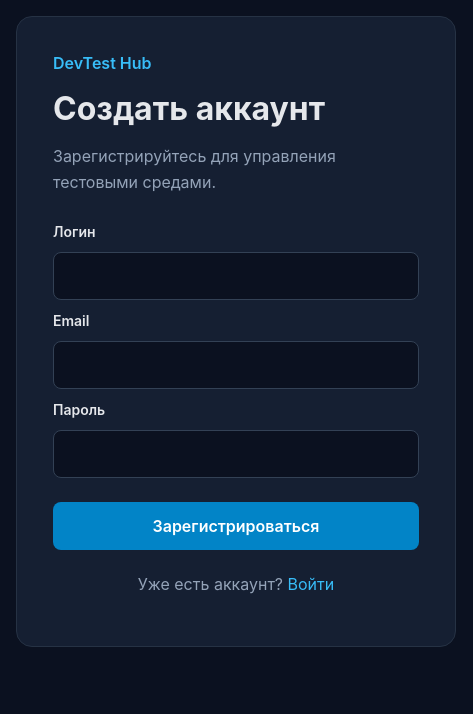
Test: RegisterPage › показывает ошибку при повторной регистрации
Type "newdeveloper" into the field labelled "Логин" at (236, 276), box [53,252,419,300]
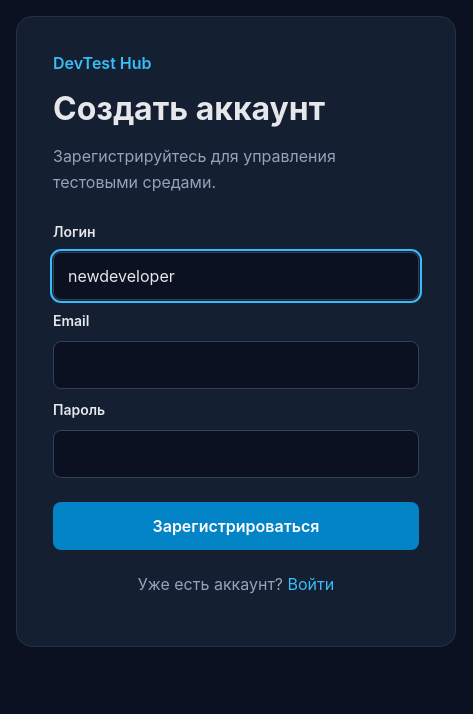
Type "newdeveloper@example.com" into the field labelled "Email" at (236, 365), box [53,341,419,389]
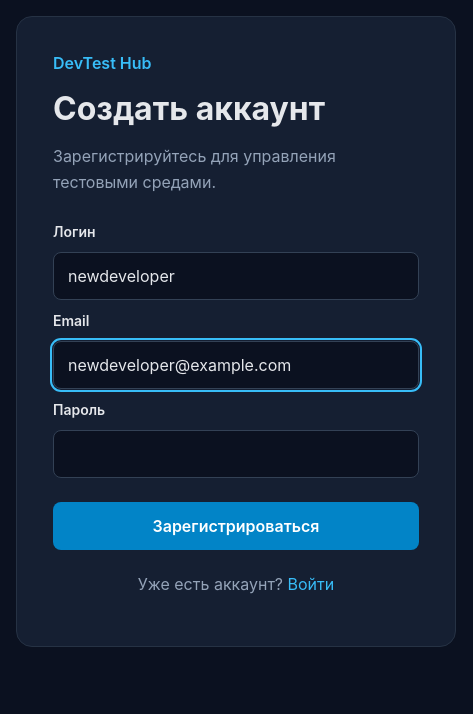
Type "Test-Password-2026!" into the password field labelled "Пароль" at (236, 454), box [53,430,419,478]
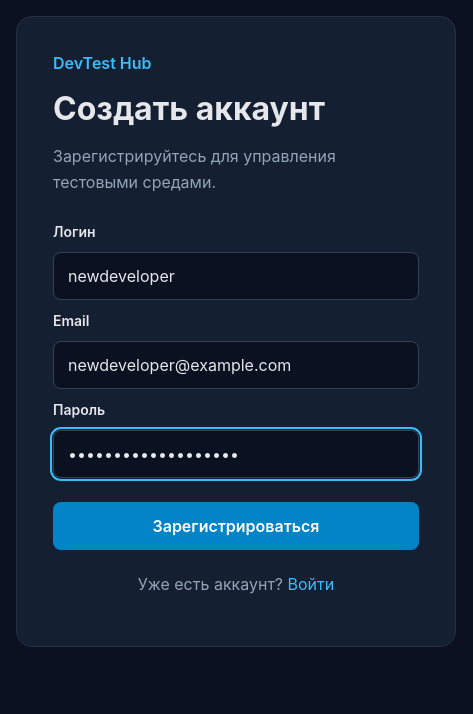
Click the button "Зарегистрироваться" at (236, 526), box [53,502,419,550]
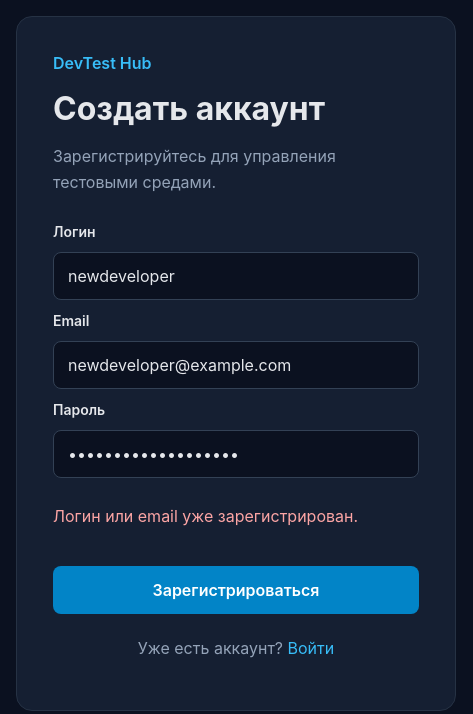
Result: the message reads "Логин или email уже зарегистрирован." at [53,506,358,526]
